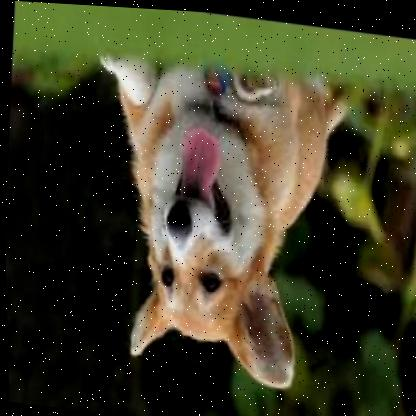dog: (76, 45, 359, 398)
